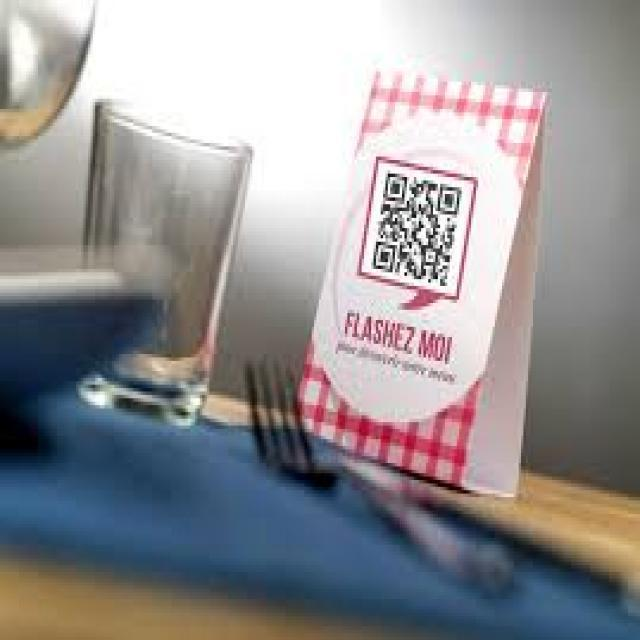qr_code: (372, 172, 461, 286)
